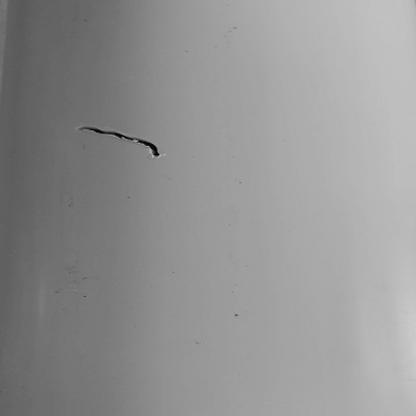fengxi: (75, 122, 160, 161)
